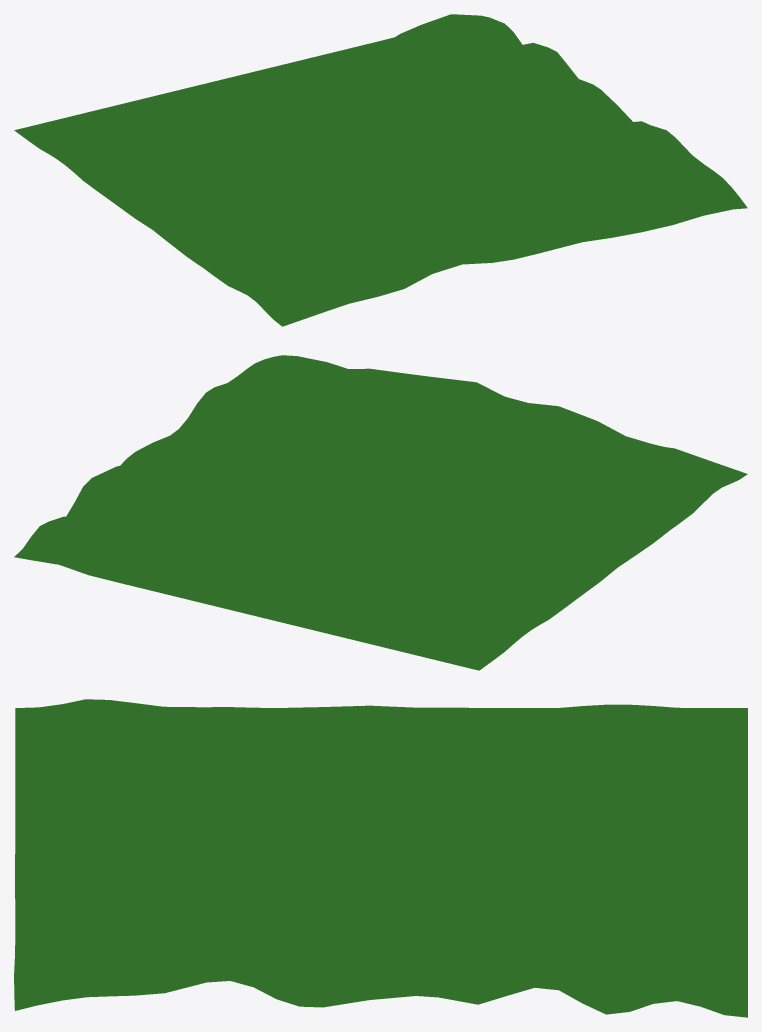
Rendered from Montaña_02.fbx.
3 views of the same model, one above another, from view 1: azimuth 30°, elevation 25°; view 2: azimuth 150°, elevation 25°; view 3: azimuth 270°, elevation 25° (orthographic). The views are drawn at different scales.
Visible parts, largest first — view 1: Plane; view 2: Plane; view 3: Plane.
Boxes of the visible parts, x1=… form: Plane: x1=14, y1=14, x2=747, y2=326; Plane: x1=14, y1=355, x2=747, y2=670; Plane: x1=14, y1=699, x2=747, y2=1017.
Bounding box in the file's own units: 544 × 47.76 × 543.
